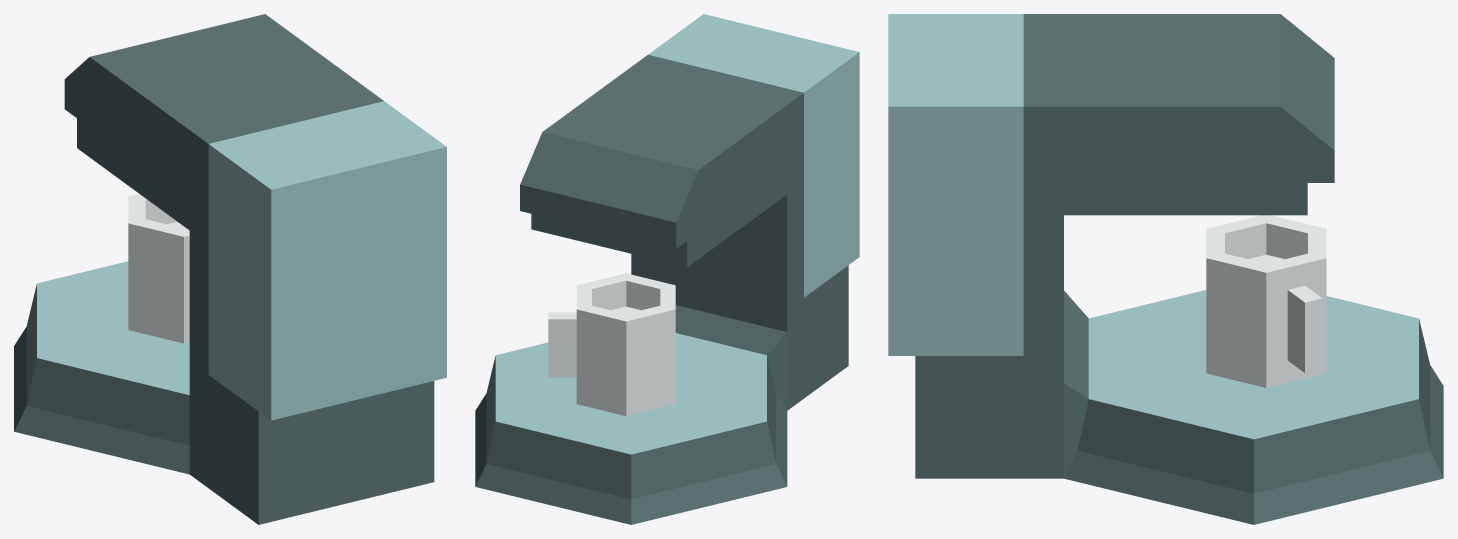
The model's file is kitchenCoffeeMachine.glb.
3 views of the same model, side by side, from view 1: azimuth 30°, elevation 25°; view 2: azimuth 150°, elevation 25°; view 3: azimuth 270°, elevation 25° (orthographic). The views are drawn at different scales.
Size of the model in its own units: 1.9 by 1.77 by 2.4.
